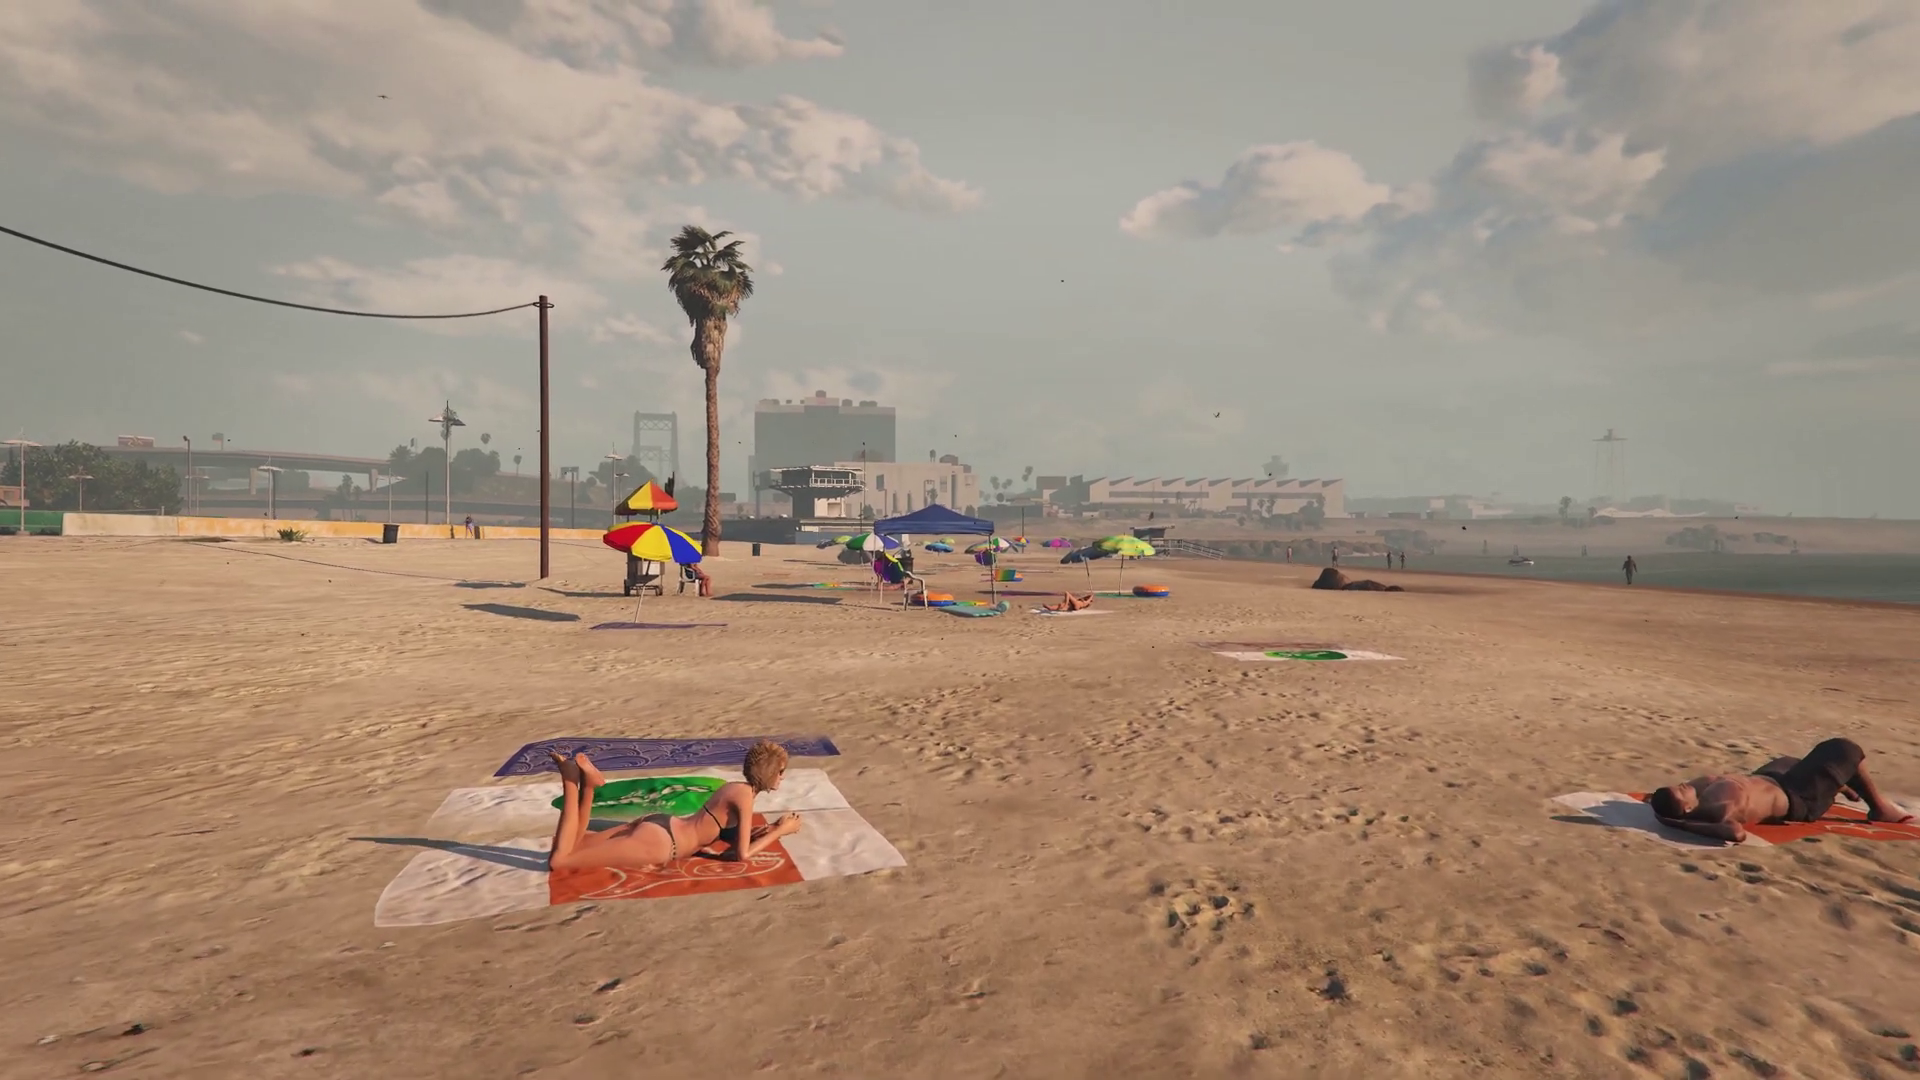person: (538, 739, 805, 876), (1651, 737, 1914, 844), (1047, 591, 1093, 613), (688, 563, 714, 598), (876, 576, 916, 592), (1623, 556, 1638, 584), (462, 514, 477, 539), (1397, 551, 1407, 570), (1331, 547, 1338, 566), (1284, 546, 1292, 562), (1386, 552, 1393, 569)
